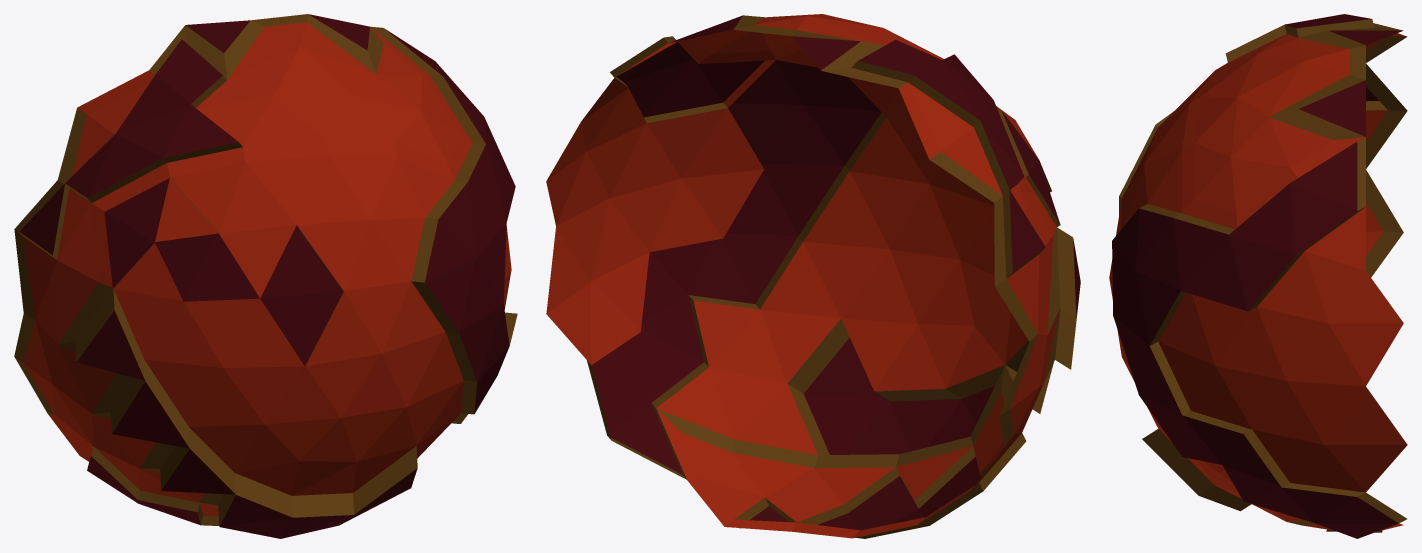
File: Rojo.fbx
The picture shows the model from 3 angles, left to right: view 1: azimuth 30°, elevation 25°; view 2: azimuth 150°, elevation 25°; view 3: azimuth 270°, elevation 25°; orthographic projection. The views are drawn at different scales.
Parts seen in each view (by area): view 1: Icosphere; view 2: Icosphere; view 3: Icosphere.
Part boxes in pixels (left/top/right/bottom): Icosphere: left=14, top=14, right=517, bottom=538; Icosphere: left=546, top=14, right=1080, bottom=538; Icosphere: left=1109, top=14, right=1407, bottom=538.
Size of the model in its own units: 200 by 203 by 116.
